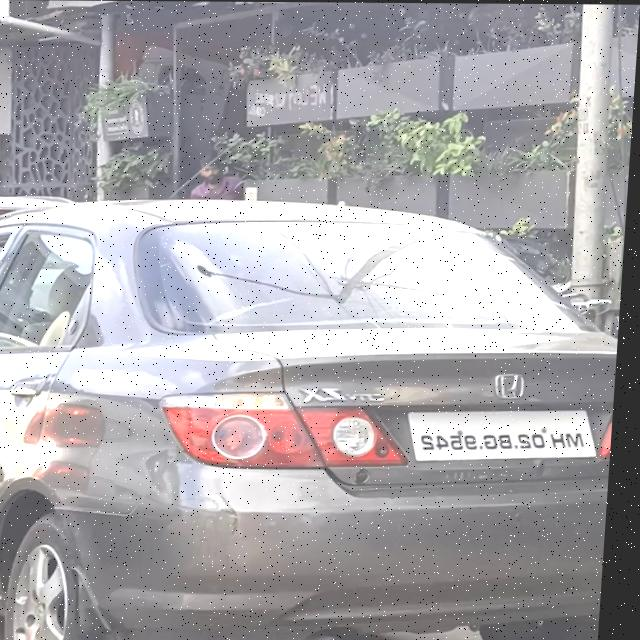plate: (408, 407, 607, 463)
